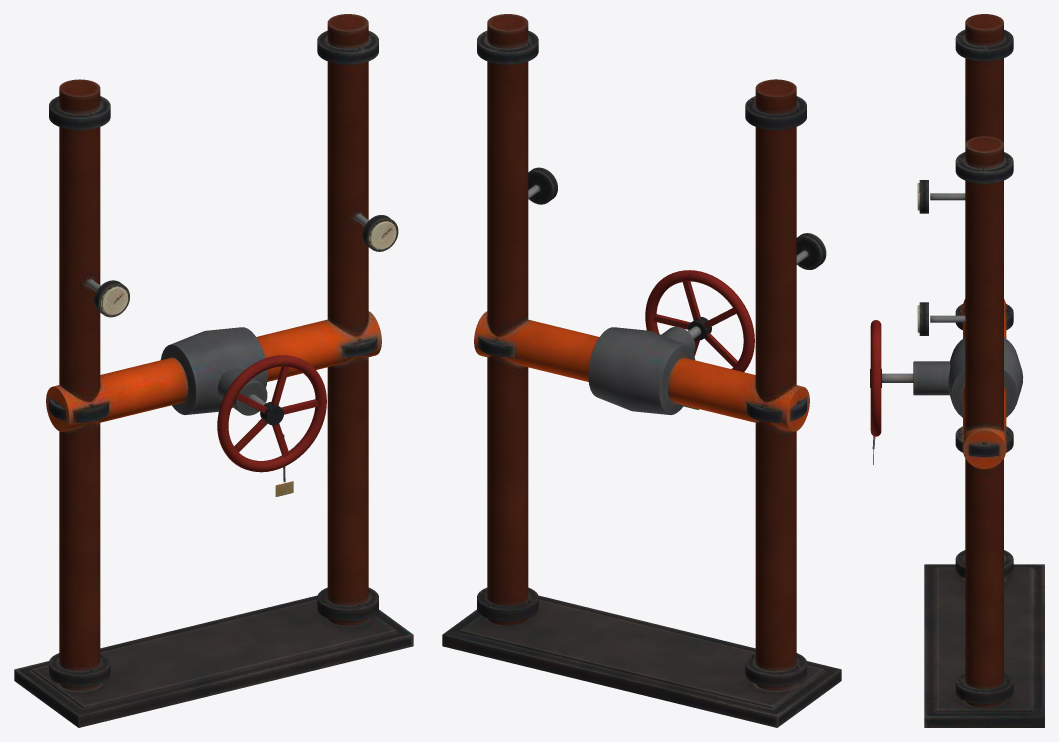
The model's file is valve_station.glb.
3 renders of one model, left to right at view 1: azimuth 30°, elevation 25°; view 2: azimuth 150°, elevation 25°; view 3: azimuth 270°, elevation 25°, orthographic. The views are drawn at different scales.
Visible parts, largest first — view 1: valve_station; view 2: valve_station; view 3: valve_station.
Part boxes in pixels (x1,y1,x2,y2): valve_station: (14, 14, 413, 727); valve_station: (442, 14, 841, 727); valve_station: (870, 14, 1044, 727).
Bounding box in the file's own units: 1.5 × 2.6 × 0.725.
1 material, 1 textured.
